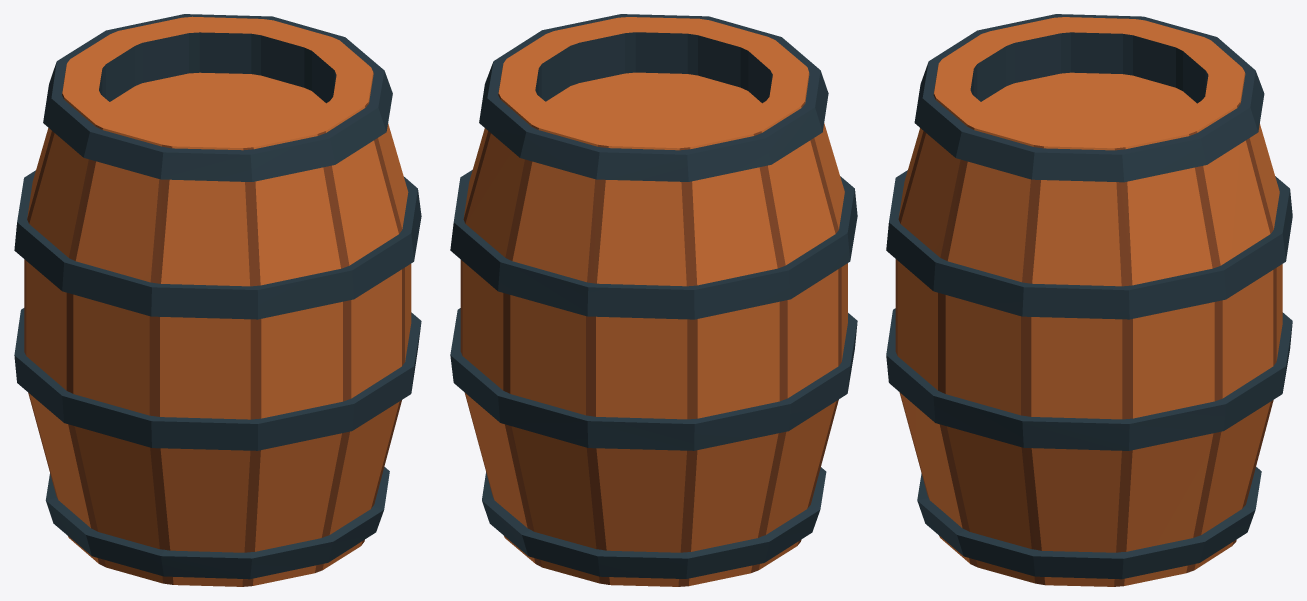
File: circlemutong.fbx
The picture shows the model from 3 angles, left to right: view 1: azimuth 30°, elevation 25°; view 2: azimuth 150°, elevation 25°; view 3: azimuth 270°, elevation 25°; orthographic projection.
Visible parts, largest first — view 1: circlemutong; view 2: circlemutong; view 3: circlemutong.
Part boxes in pixels (left/top/right/bottom): circlemutong: left=14, top=14, right=421, bottom=586; circlemutong: left=450, top=14, right=857, bottom=586; circlemutong: left=886, top=14, right=1292, bottom=586.
Size of the model in its own units: 267 by 319 by 267.
